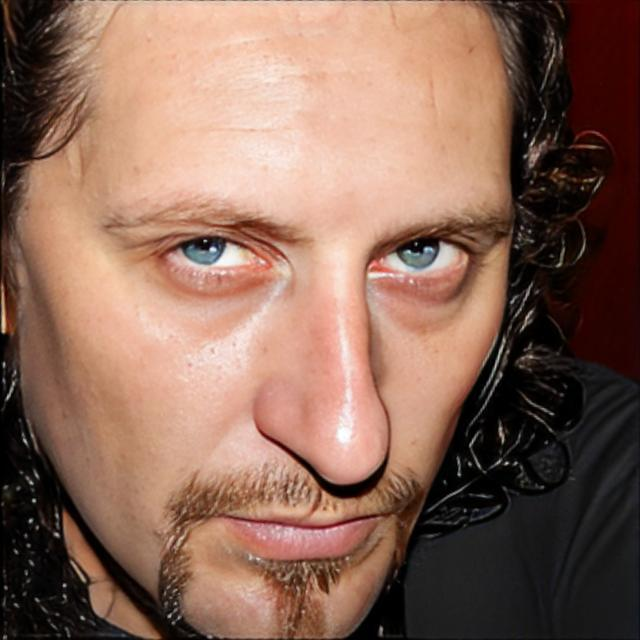anger: (16, 1, 518, 640)
